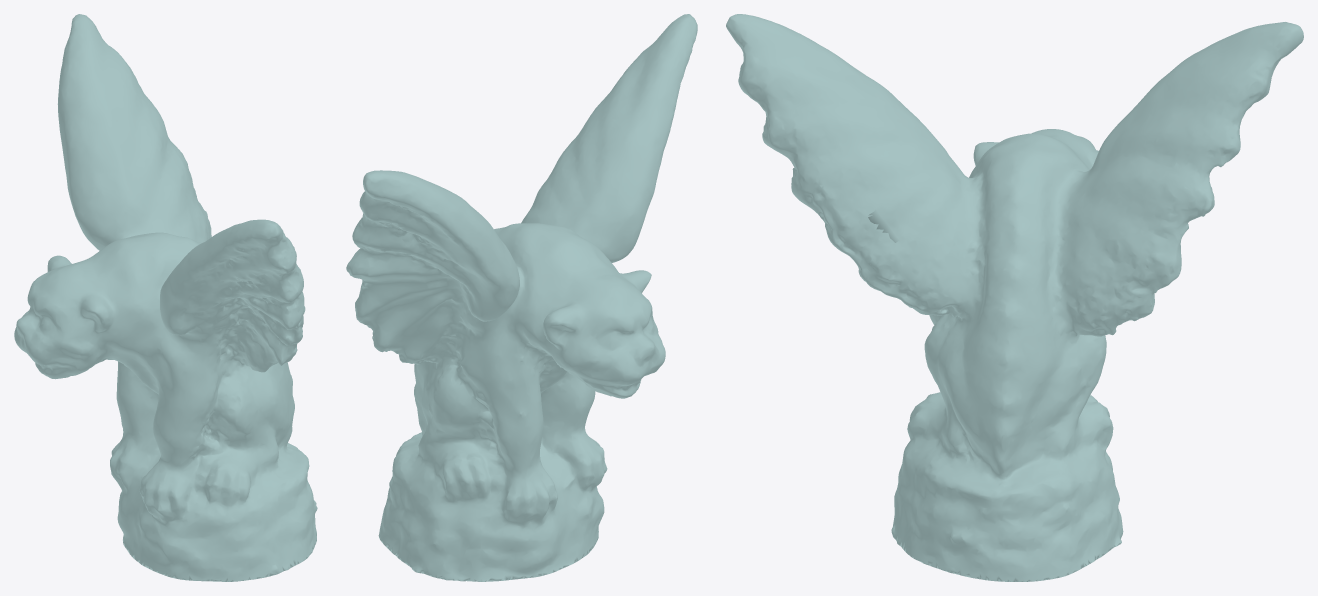
Rendered from main2.glb.
3 views of the same model, side by side, from view 1: azimuth 30°, elevation 25°; view 2: azimuth 150°, elevation 25°; view 3: azimuth 270°, elevation 25° (orthographic). The views are drawn at different scales.
Visible parts, largest first — view 1: Object_2; view 2: Object_2; view 3: Object_2.
Boxes of the visible parts, left/top/right/bottom form: Object_2: left=14, top=14, right=317, bottom=581; Object_2: left=346, top=14, right=697, bottom=581; Object_2: left=726, top=14, right=1303, bottom=581.
Bounding box in the file's own units: 1.8 × 2.82 × 2.96.
Materials: 1 (1 with a texture image).
